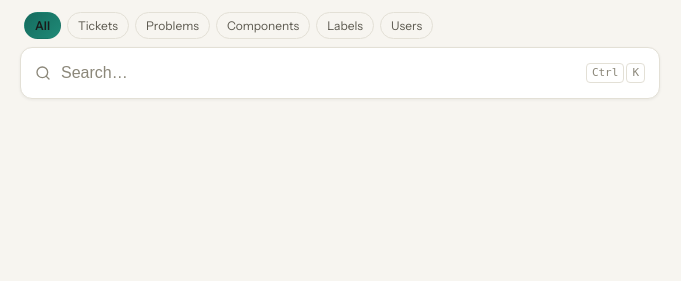
Test: GlobalSearchBar — polish (A4) › (a) shows recent searches when focused on empty input
The width and height of the screenshot is (681, 281).
Click the search field.
click(318, 73)  # box [61,52,576,94]
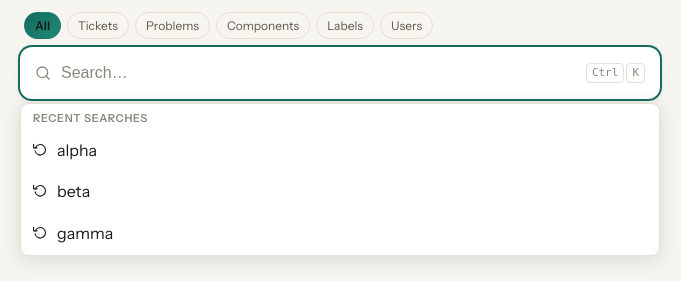
Result: the text "alpha" is shown at [57,138,97,163]
Result: the text "beta" is shown at [57,179,90,205]
Result: the text "gamma" is shown at [57,221,113,247]
